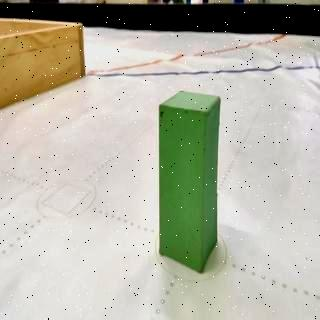greenbox: (156, 88, 223, 274)
